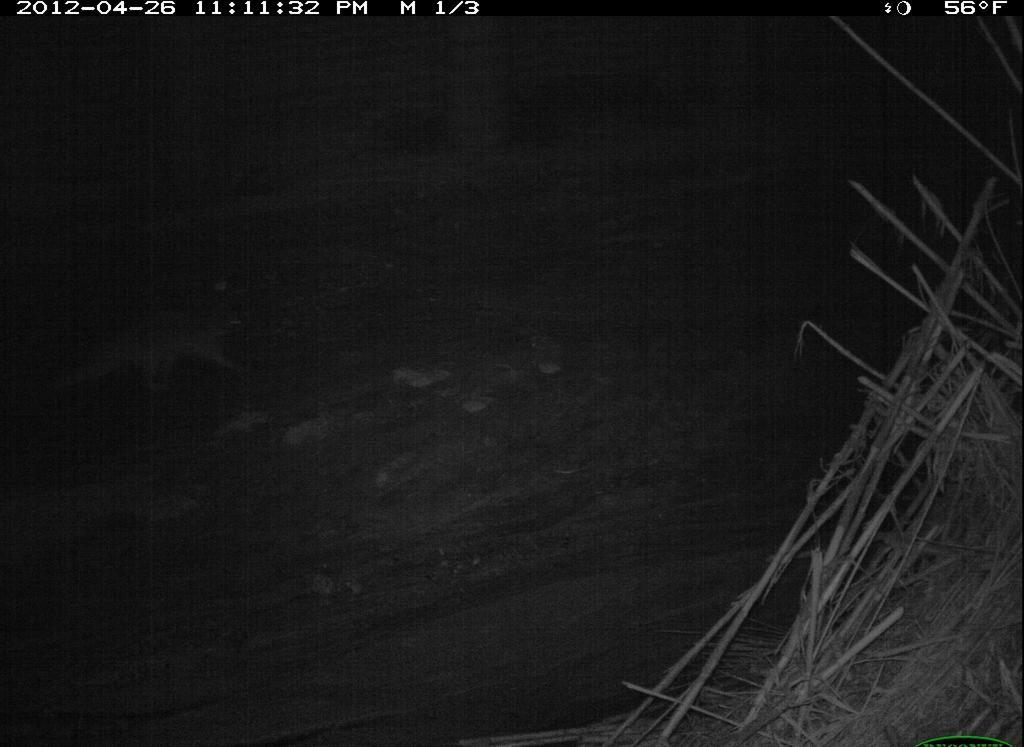raccoon: (41, 280, 271, 420)
